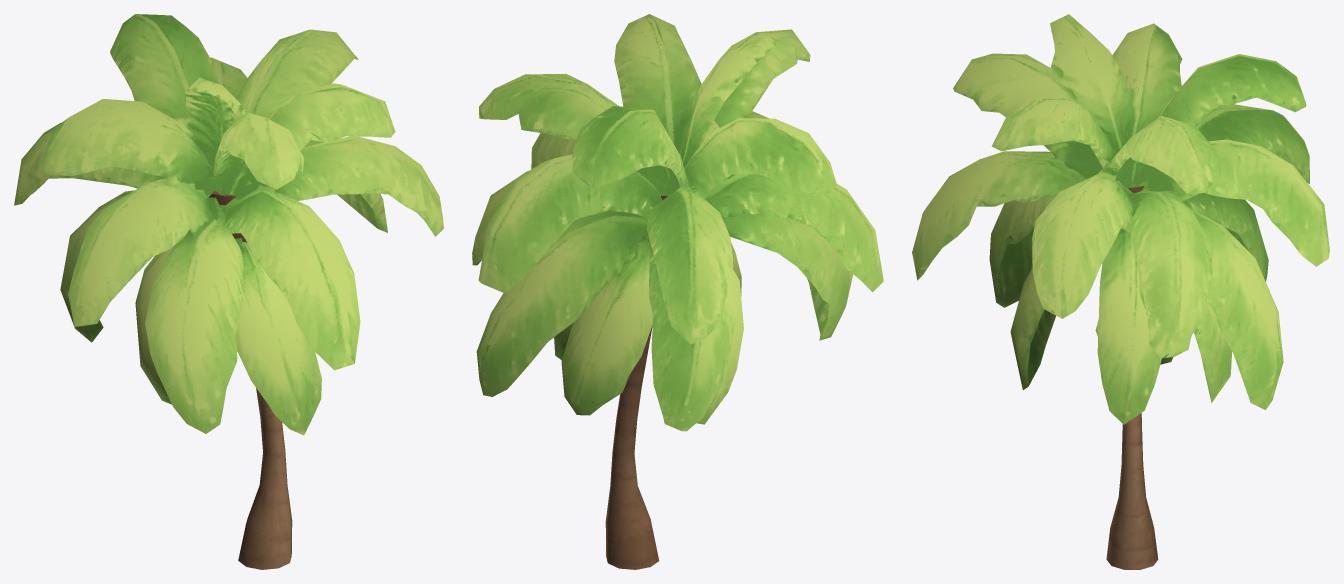
The model's file is palm_c.glb.
3 renders of one model, left to right at view 1: azimuth 30°, elevation 25°; view 2: azimuth 150°, elevation 25°; view 3: azimuth 270°, elevation 25°, orthographic. The views are drawn at different scales.
Visible parts, largest first — view 1: body; view 2: body; view 3: body.
Part boxes in pixels (x1=…): body: x1=14, y1=14, x2=443, y2=569; body: x1=472, y1=14, x2=883, y2=569; body: x1=912, y1=14, x2=1329, y2=569.
Size of the model in its own units: 3.24 by 4.53 by 3.43.
2 materials, 2 textured.
